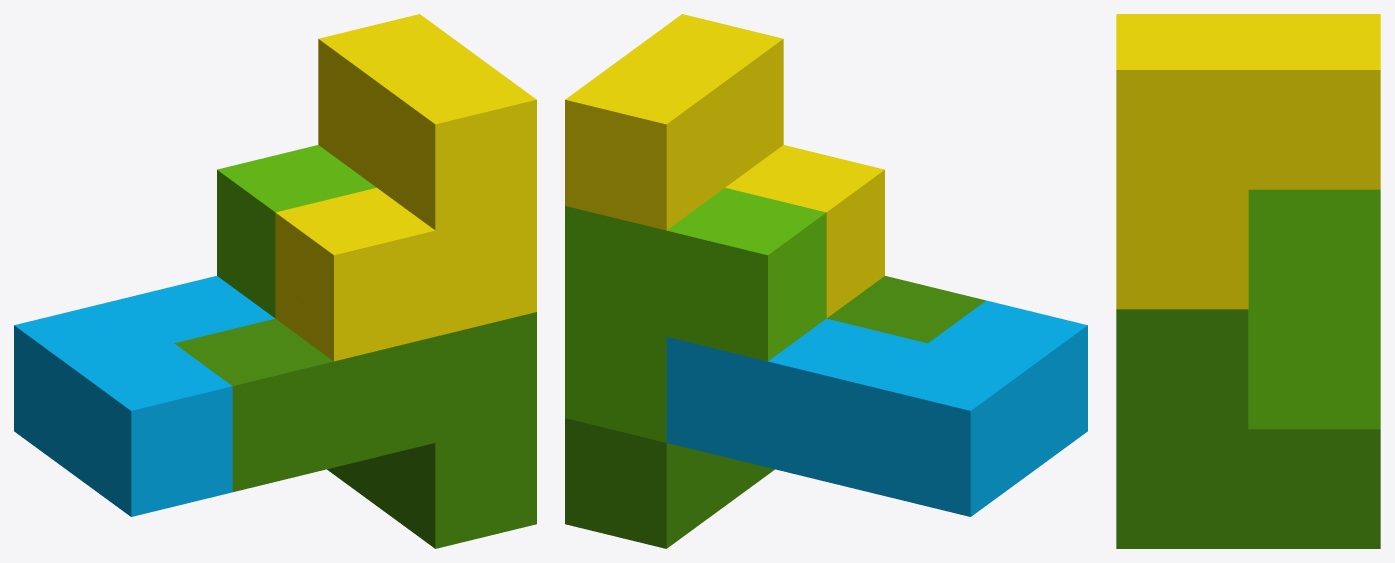
3 views of the same model, side by side, from view 1: azimuth 30°, elevation 25°; view 2: azimuth 150°, elevation 25°; view 3: azimuth 270°, elevation 25° (orthographic). The views are drawn at different scales.
Visible parts, largest first — view 1: mergedBlocks(Clone); view 2: mergedBlocks(Clone); view 3: mergedBlocks(Clone).
Boxes of the visible parts, x1,y1,x2,y2 form: mergedBlocks(Clone): (14,14,536,548); mergedBlocks(Clone): (565,14,1087,548); mergedBlocks(Clone): (1116,14,1380,548).
Size of the model in its own units: 4 by 4 by 2.
4 materials, 4 textured.
